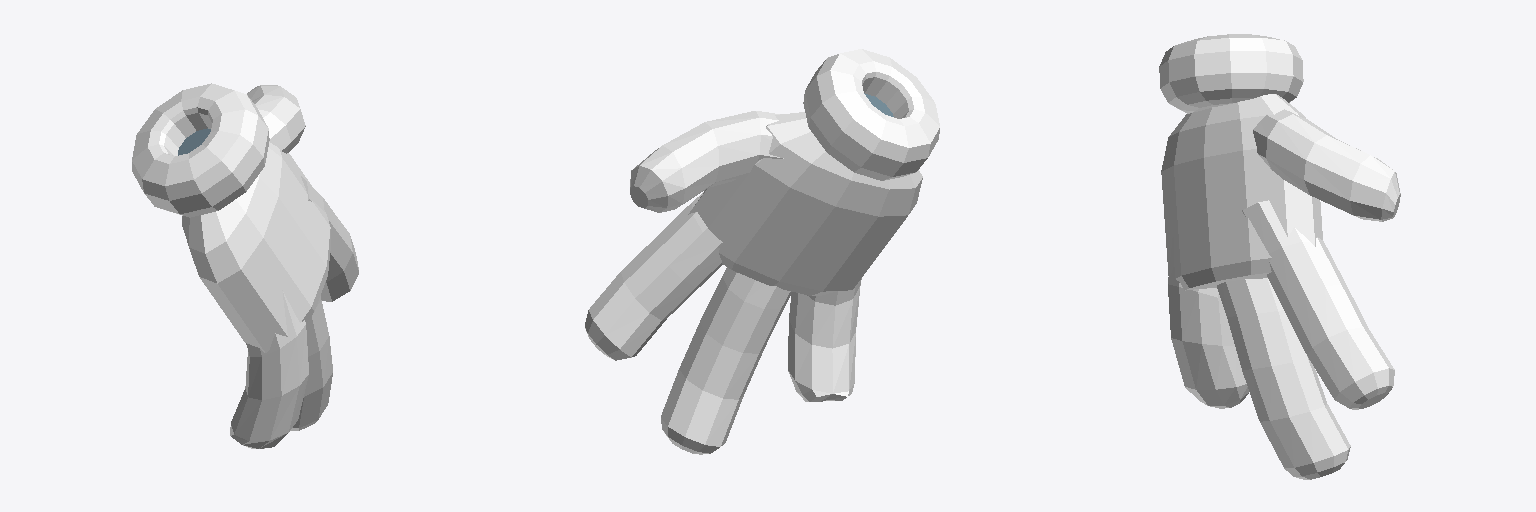
File: hand.obj
3 renders of one model, left to right at view 1: azimuth 30°, elevation 25°; view 2: azimuth 150°, elevation 25°; view 3: azimuth 270°, elevation 25°, orthographic.
Visible parts, largest first — view 1: model:mesh[number redacted]; view 2: model:mesh[number redacted]; view 3: model:mesh[number redacted].
Part boxes in pixels (left/top/right/bottom): model:mesh[number redacted]: left=132, top=83, right=358, bottom=448; model:mesh[number redacted]: left=585, top=49, right=939, bottom=454; model:mesh[number redacted]: left=1159, top=34, right=1400, bottom=479.
Bounding box in the file's own units: 0.2246 × 0.3033 × 0.1698.